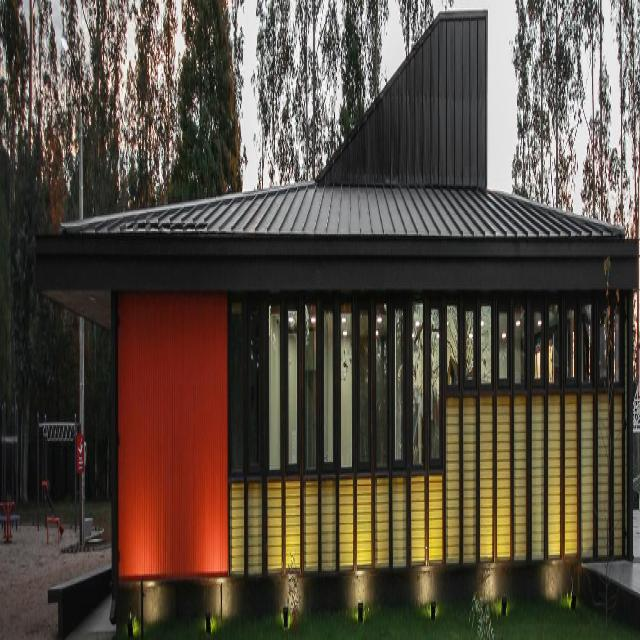wall: (35, 12, 638, 629)
windows: (230, 303, 244, 482), (246, 303, 260, 482), (268, 309, 280, 478), (412, 307, 423, 473), (376, 308, 386, 472), (341, 312, 351, 471), (394, 314, 404, 471), (306, 305, 315, 474), (358, 317, 368, 469), (323, 315, 332, 467), (288, 313, 296, 477), (431, 311, 439, 464), (547, 308, 559, 391), (513, 308, 525, 389), (447, 309, 458, 394), (481, 310, 492, 391), (581, 314, 592, 389), (532, 316, 542, 388), (465, 312, 474, 391), (565, 310, 574, 387), (614, 316, 623, 388), (599, 311, 607, 384), (498, 314, 506, 385)
